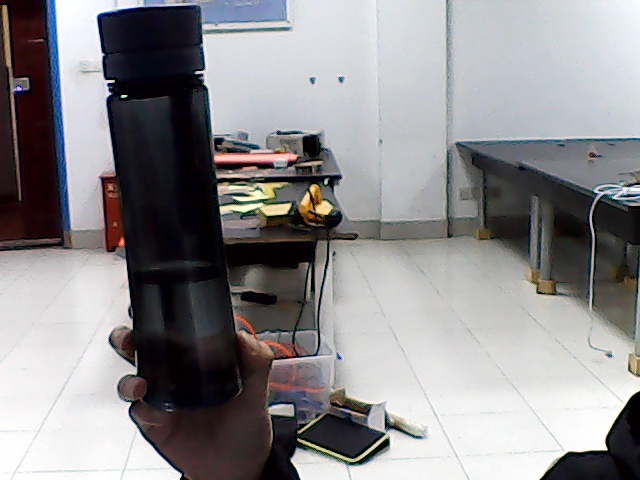cup: (126, 54, 209, 299)
